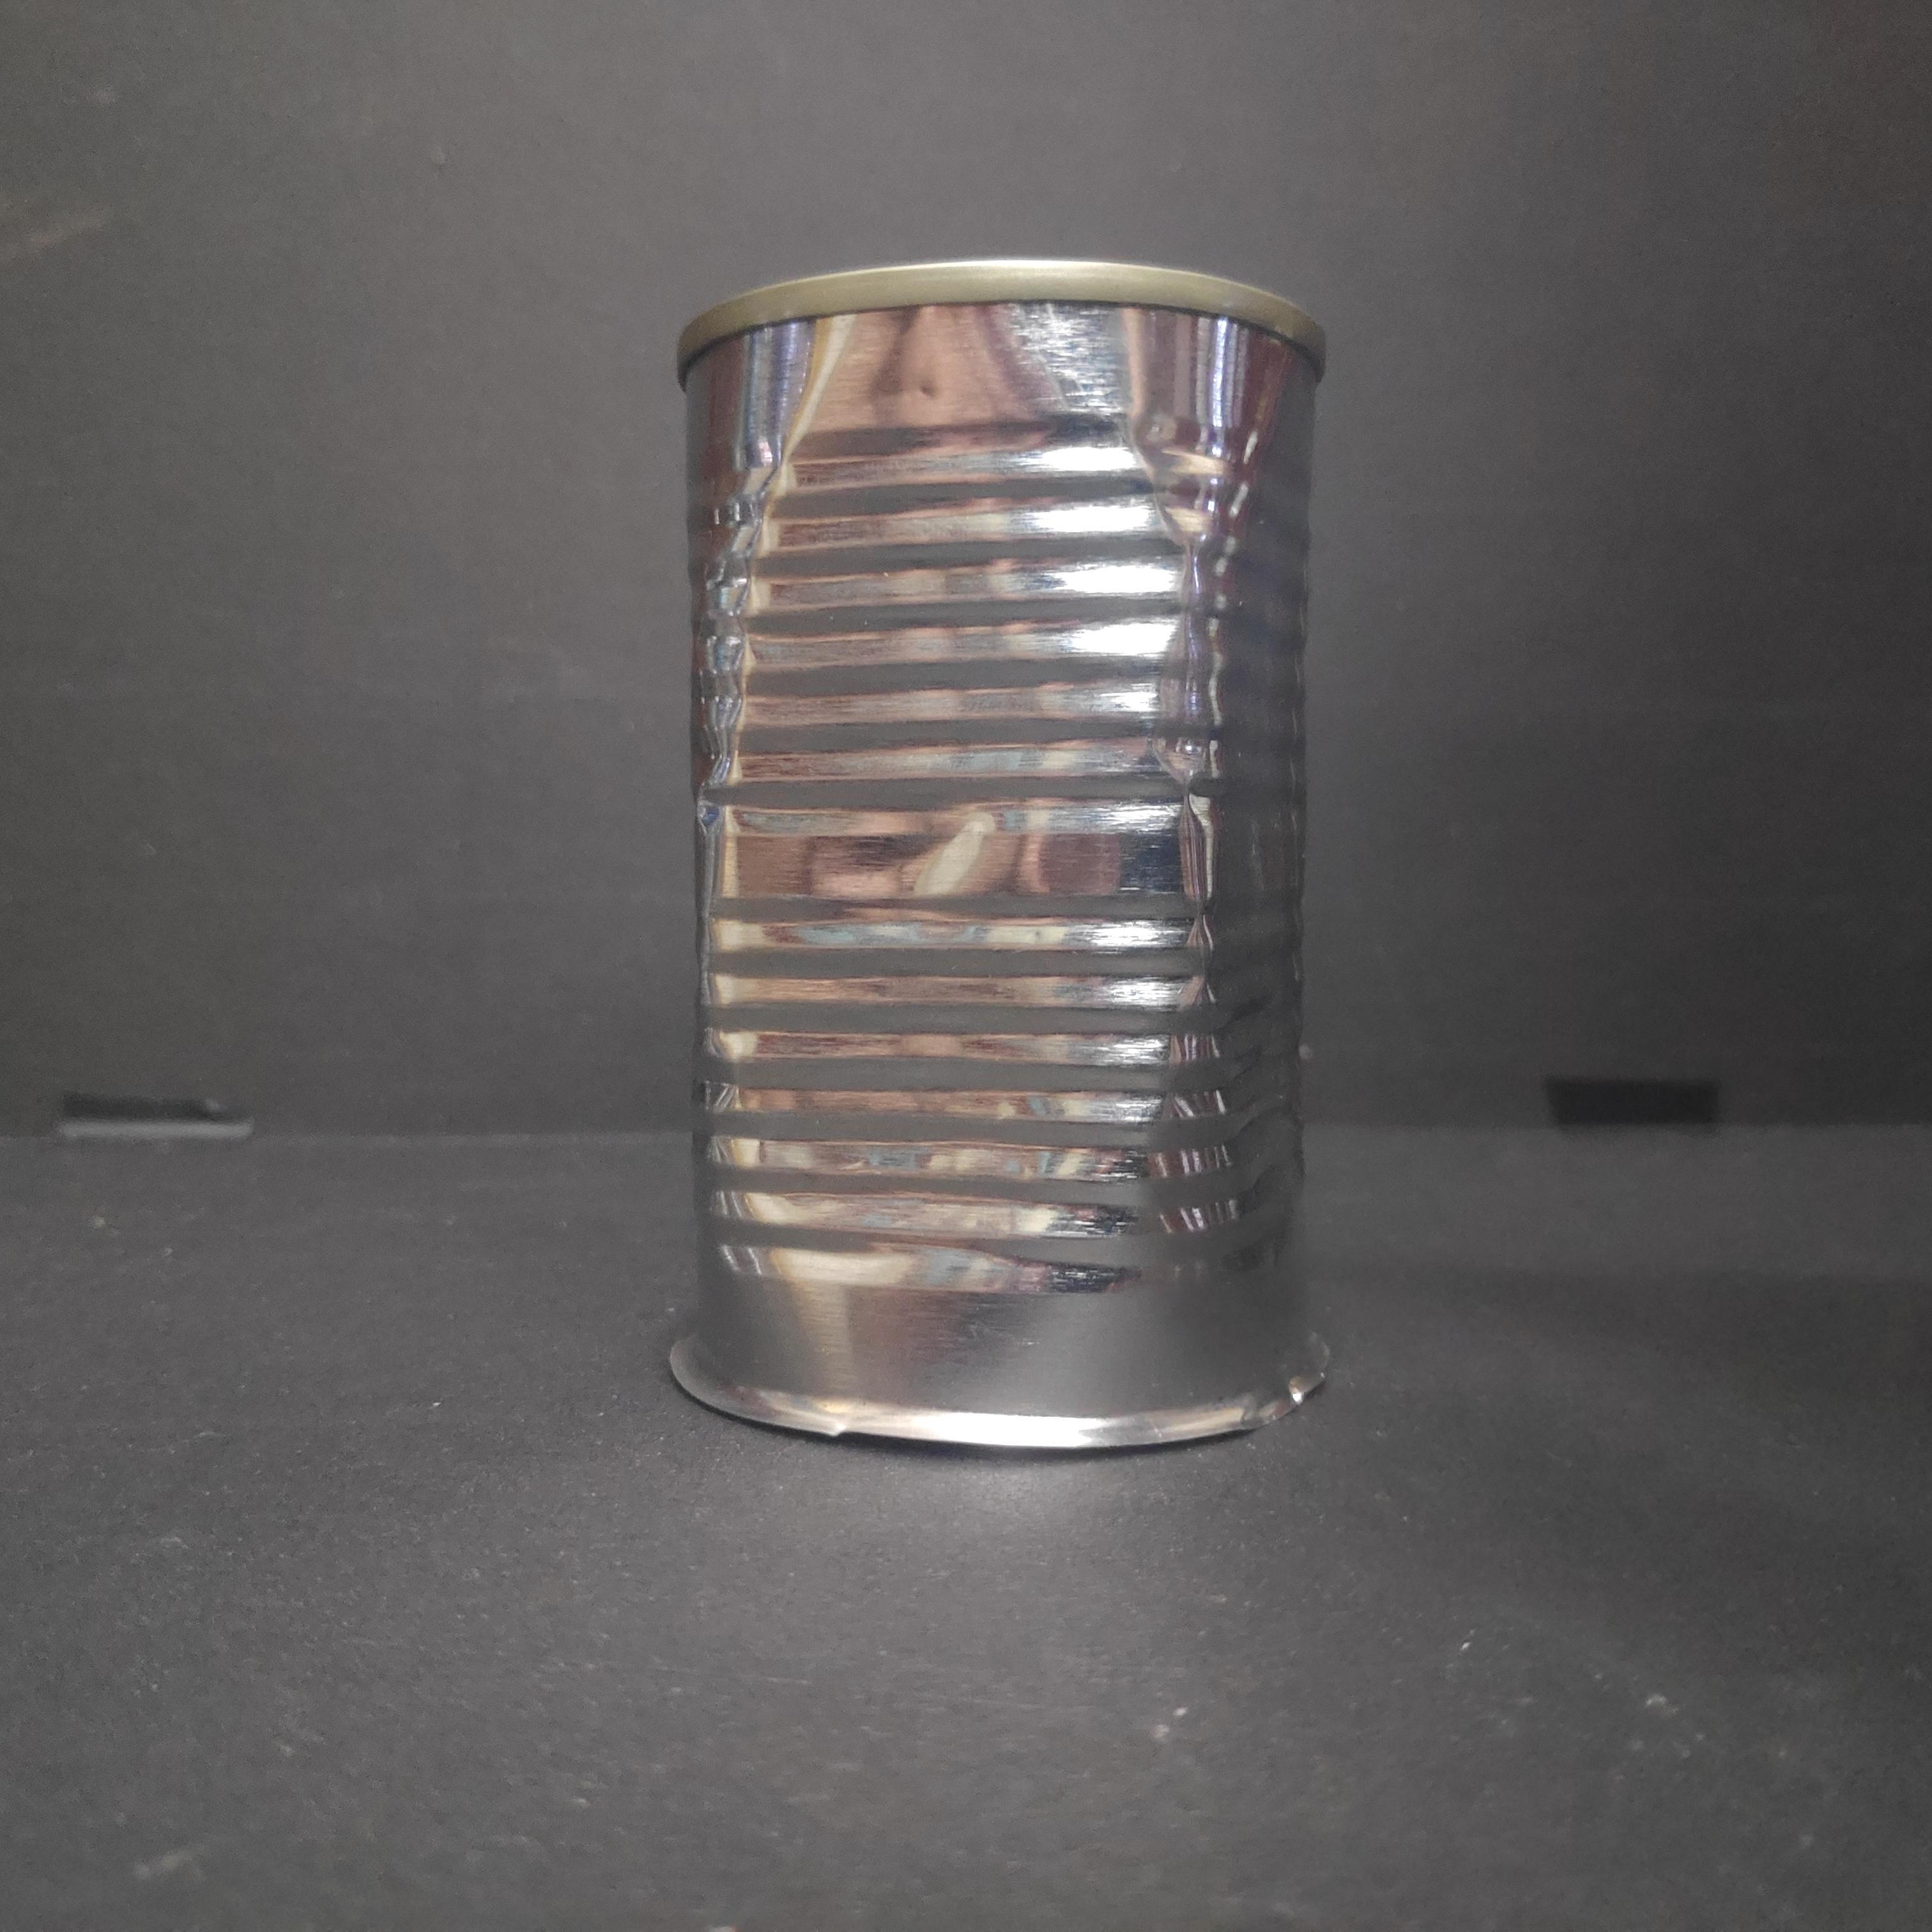Dented: (655, 255, 1376, 1476)
